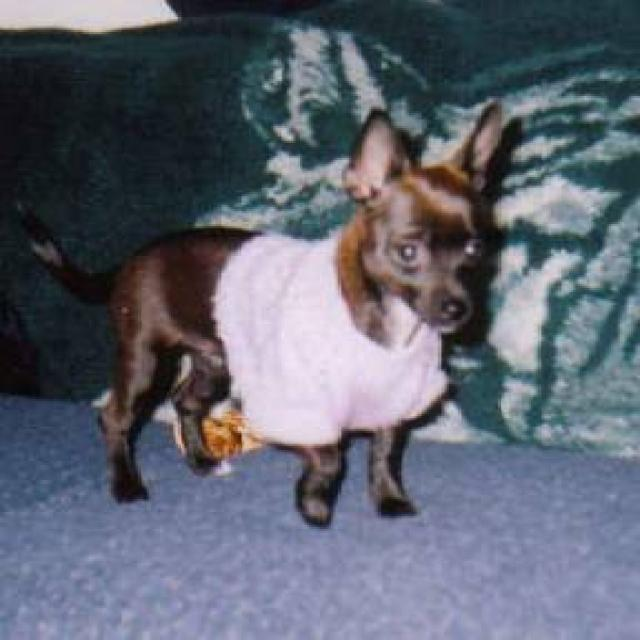dog-chihuahua: (331, 100, 511, 352)
